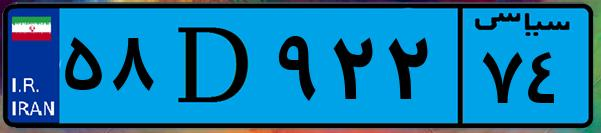2: (385, 28, 445, 110), (330, 28, 385, 110)
4: (525, 38, 570, 115)
5: (57, 26, 110, 100)
7: (475, 38, 525, 113)
8: (110, 28, 158, 98)
9: (270, 28, 330, 110)
D: (158, 12, 270, 120)
